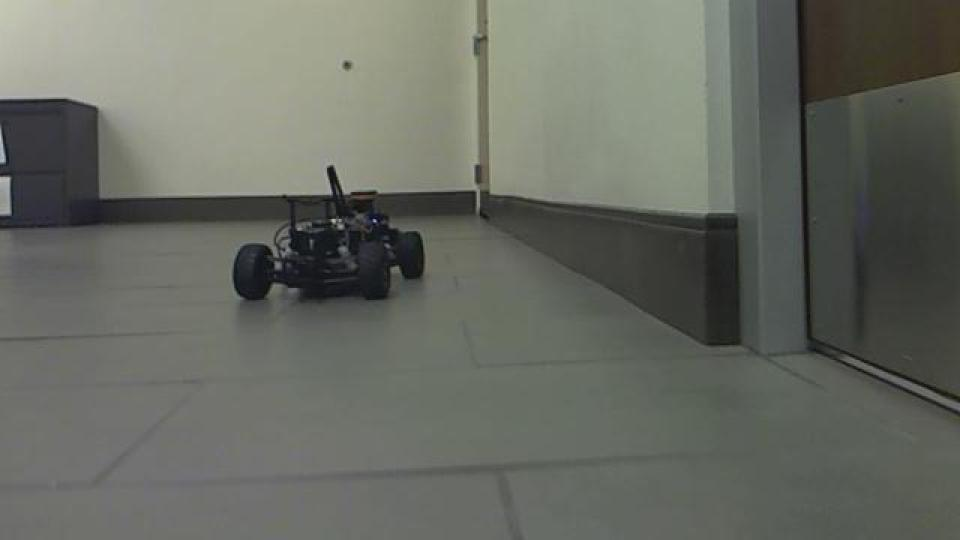car: (228, 162, 428, 304)
